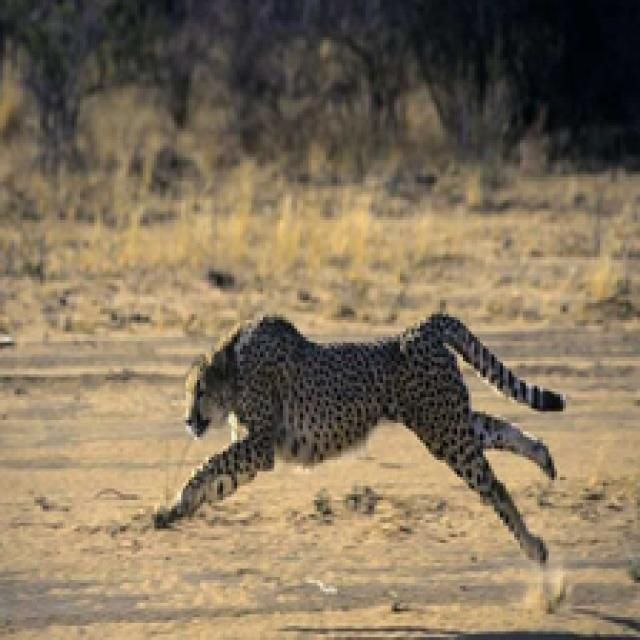cheetah: (152, 303, 572, 577)
